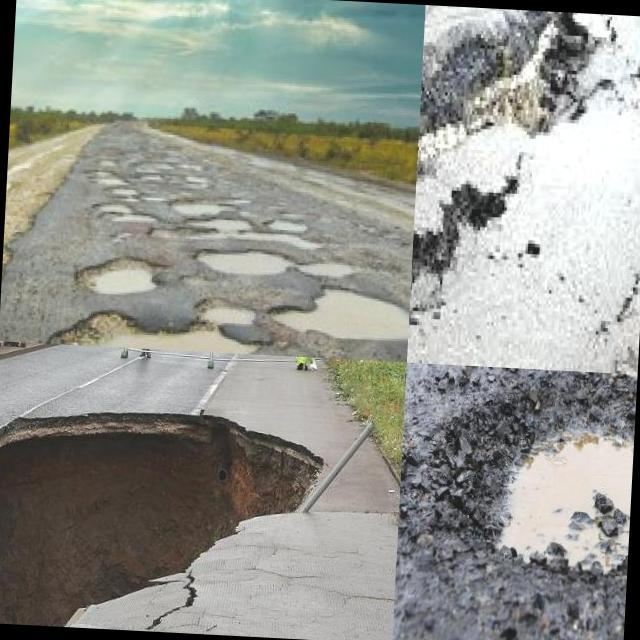Pothole: (0, 413, 322, 626), (447, 384, 637, 579), (94, 201, 354, 275), (49, 314, 255, 354), (275, 290, 409, 338), (76, 258, 155, 296)
